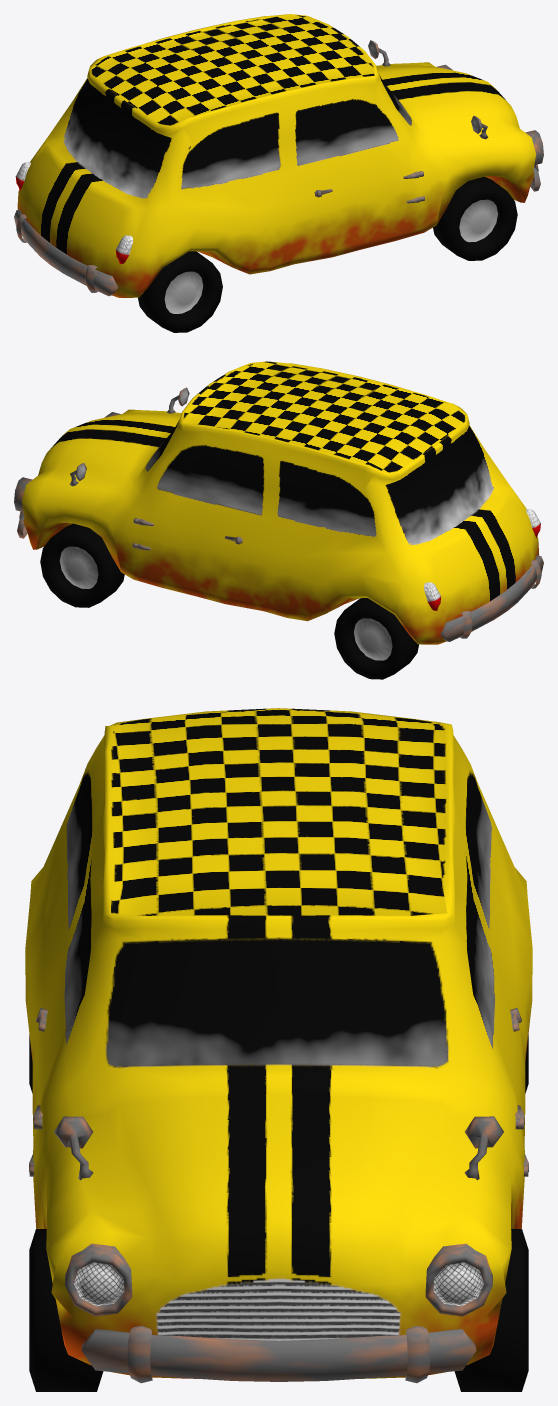
Rendered from caryellowvariant.glb.
3 views of the same model, one above another, from view 1: azimuth 30°, elevation 25°; view 2: azimuth 150°, elevation 25°; view 3: azimuth 270°, elevation 25° (orthographic). The views are drawn at different scales.
Parts seen in each view (by area): view 1: caryellowvariant, lowpolywheel.025, lowpolywheel.026, Cube.019, backlight.006, RETROVISEURLOW.006; view 2: caryellowvariant, lowpolywheel.028, lowpolywheel.027, Cube.019, backlight.006, RETROVISEURLOW.006; view 3: caryellowvariant, Cube.020, lightinfront.006, lowpolywheel.025, lowpolywheel.028, RETROVISEURLOW.006, Cube.021.
Boxes of the visible parts, <box> form: caryellowvariant: <box>17,14,536,297</box>; lowpolywheel.025: <box>433,176,517,260</box>; lowpolywheel.026: <box>138,251,222,332</box>; Cube.019: <box>14,209,118,296</box>; backlight.006: <box>15,162,132,264</box>; RETROVISEURLOW.006: <box>368,40,488,139</box>; caryellowvariant: <box>21,361,538,644</box>; lowpolywheel.028: <box>40,523,124,607</box>; lowpolywheel.027: <box>334,598,418,679</box>; Cube.019: <box>440,555,543,641</box>; backlight.006: <box>424,509,540,610</box>; RETROVISEURLOW.006: <box>69,387,189,486</box>; caryellowvariant: <box>25,708,532,1378</box>; Cube.020: <box>81,1326,476,1383</box>; lightinfront.006: <box>65,1243,492,1316</box>; lowpolywheel.025: <box>29,1229,103,1391</box>; lowpolywheel.028: <box>454,1229,528,1391</box>; RETROVISEURLOW.006: <box>54,1116,503,1180</box>; Cube.021: <box>29,1008,528,1176</box>.
Bounding box in the file's own units: 8.13 × 3.46 × 3.93.
Materials: 1 (1 with a texture image).
